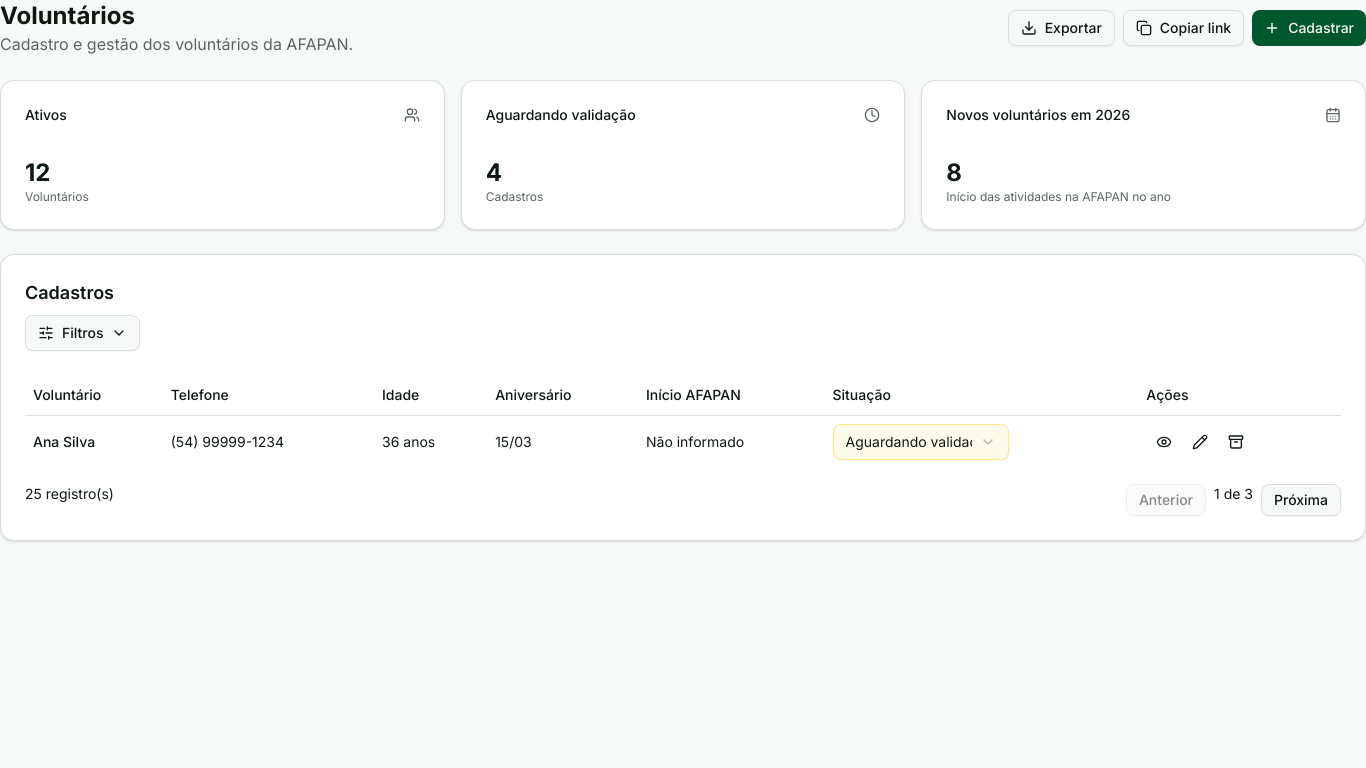
Scenario: listagem de voluntários com cadastro permanente › CA-009: mantém paginação e cadastro assistido disponíveis
Expected: the button named "Ver Ana" is shown, top-left (1146, 424), bottom-right (1182, 460)
Click the button "Próxima" at (1301, 500), box top-left (1261, 484), bottom-right (1341, 516)
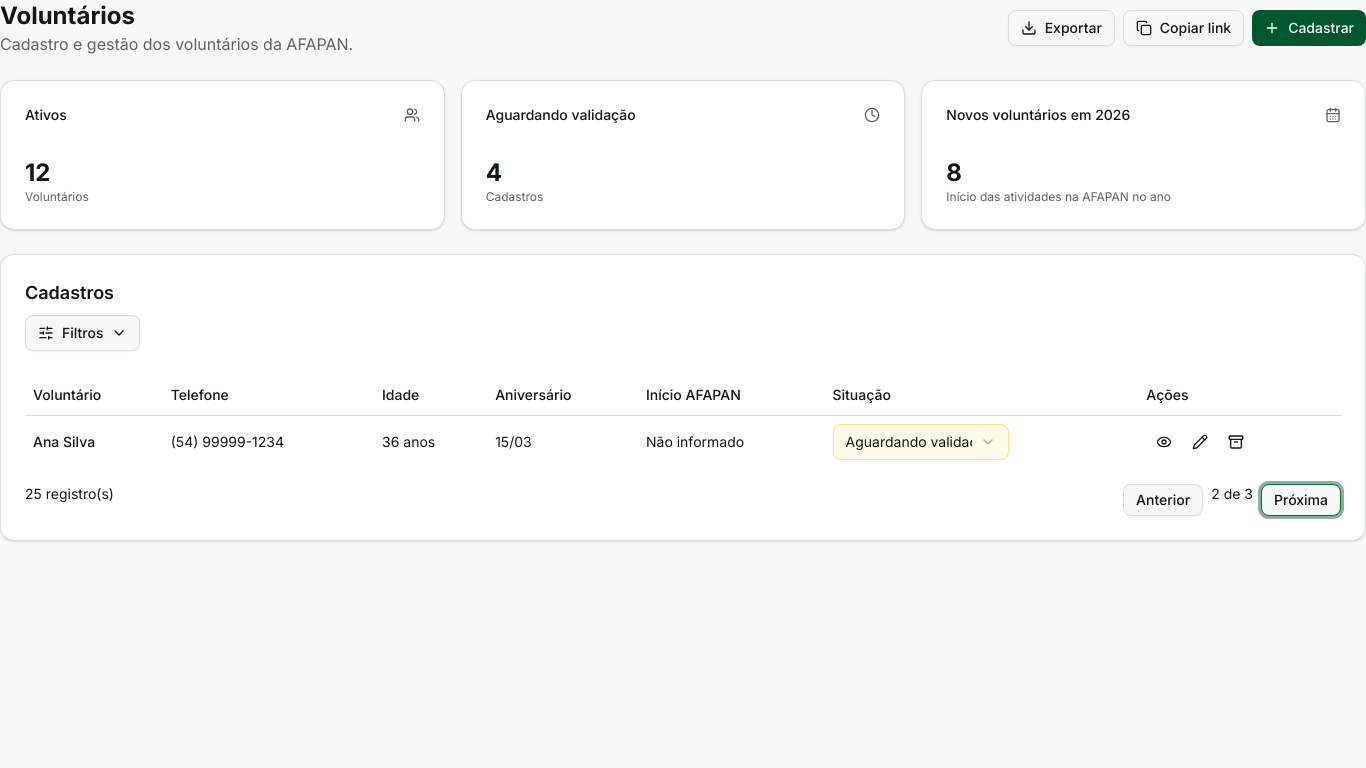
Click the button "Cadastrar" at (1309, 28), box top-left (1252, 10), bottom-right (1365, 46)
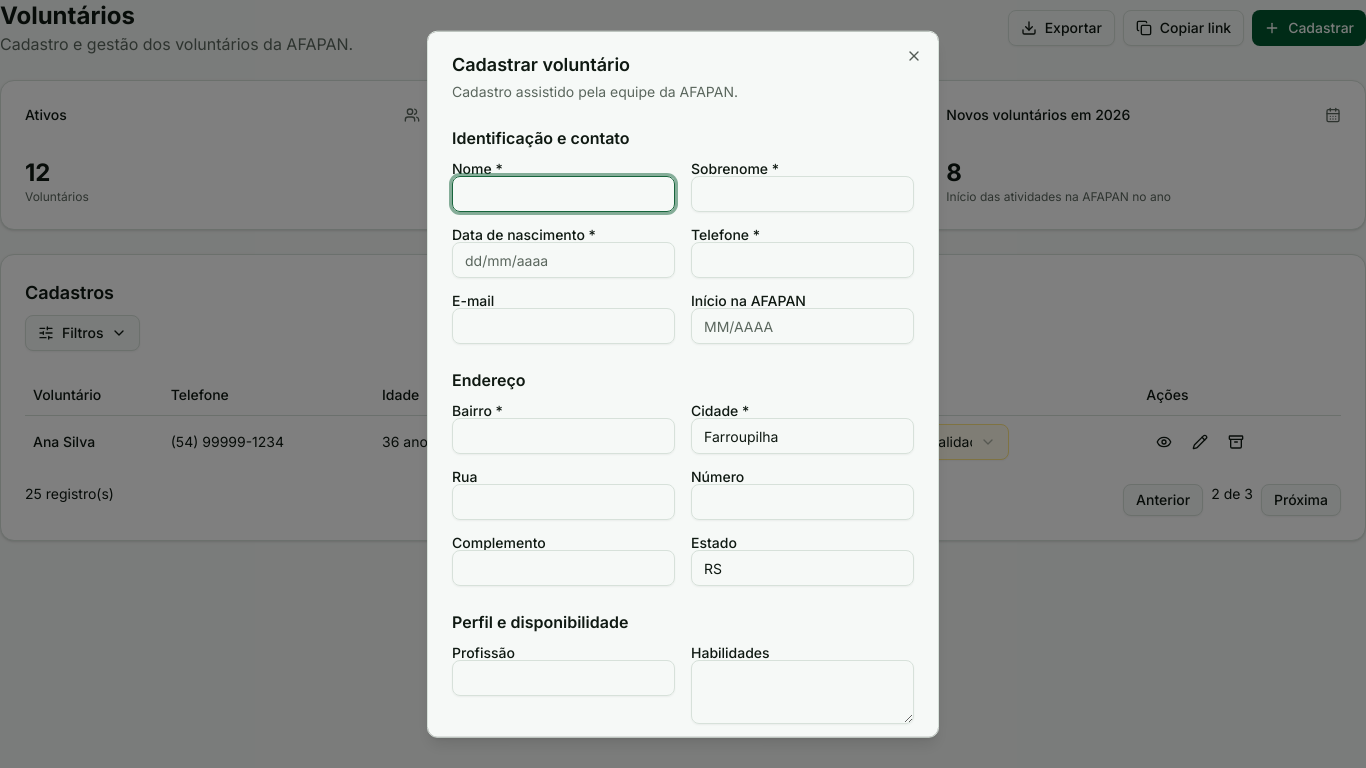
Now the dialog "Cadastrar voluntário" is shown, box top-left (427, 31), bottom-right (939, 737)
